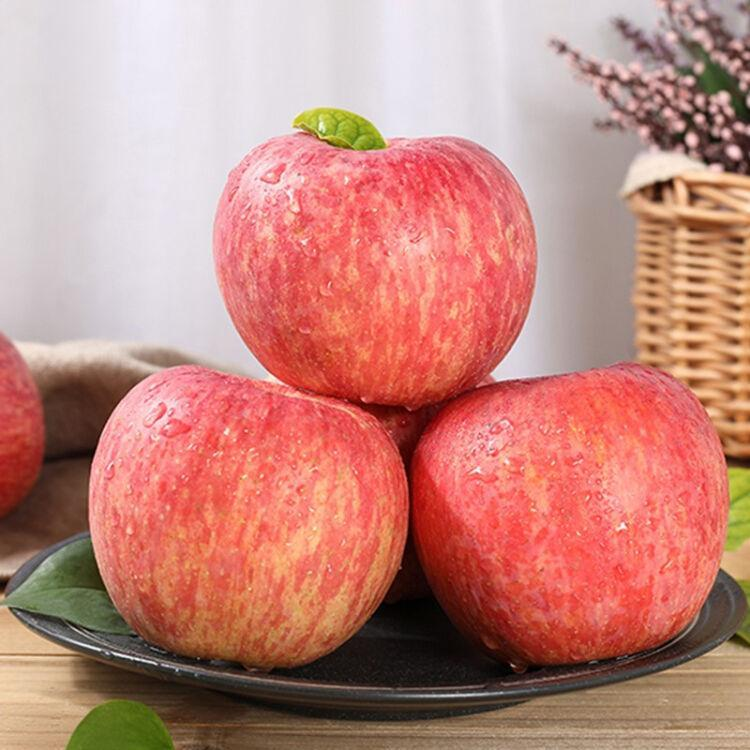apple: (411, 362, 731, 668), (82, 365, 406, 664), (209, 120, 537, 410)
